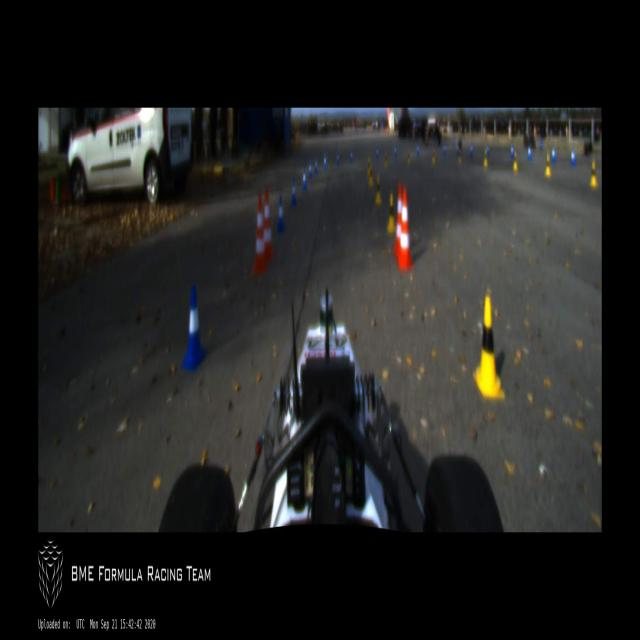blue_cone: (181, 283, 206, 371), (276, 197, 285, 234), (291, 177, 297, 205), (301, 166, 307, 189), (570, 147, 576, 165), (551, 144, 556, 164), (308, 160, 312, 182), (528, 142, 532, 162), (314, 158, 318, 174), (511, 143, 514, 158), (350, 148, 353, 162), (376, 146, 379, 159), (470, 145, 473, 157), (336, 152, 339, 164), (417, 142, 419, 155), (444, 143, 446, 156), (324, 156, 326, 168), (394, 145, 396, 156)
large_orange_cone: (396, 187, 413, 276), (251, 194, 267, 277), (393, 181, 404, 257), (263, 187, 274, 262)
yellow_cone: (474, 295, 503, 399), (387, 194, 395, 234), (589, 160, 598, 188), (375, 176, 382, 204), (544, 150, 551, 176), (456, 143, 462, 163), (512, 152, 518, 172), (369, 165, 374, 186), (367, 157, 371, 178), (484, 148, 488, 166), (432, 145, 435, 161), (384, 152, 387, 168), (407, 150, 410, 166)
